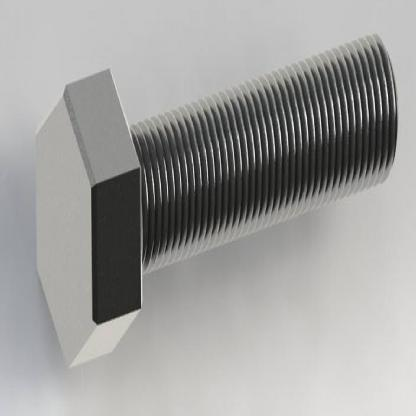FOD: (31, 27, 402, 375)
